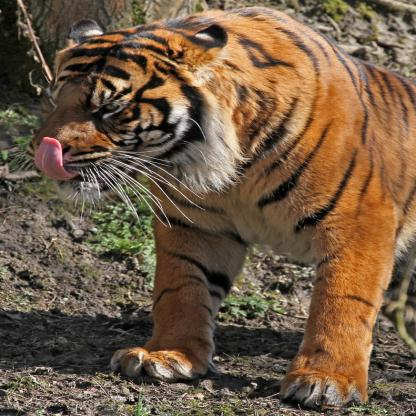Tiger: (7, 4, 416, 413)
